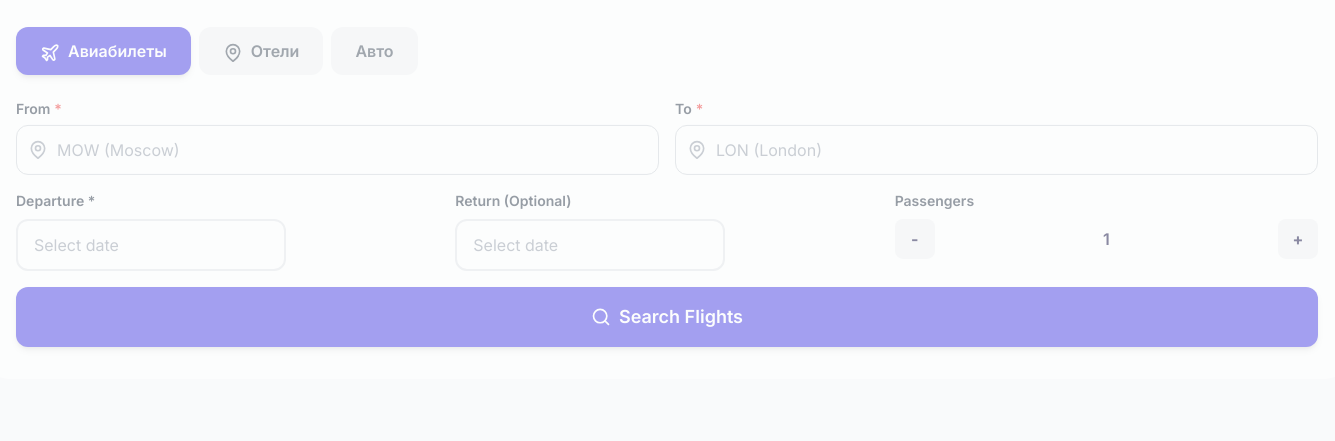
Scenario: SearchWidget Component › Tab Navigation › shows hotel search form when hotels tab selected
Click the tab "Отели" at (261, 51), box [199,27,323,75]
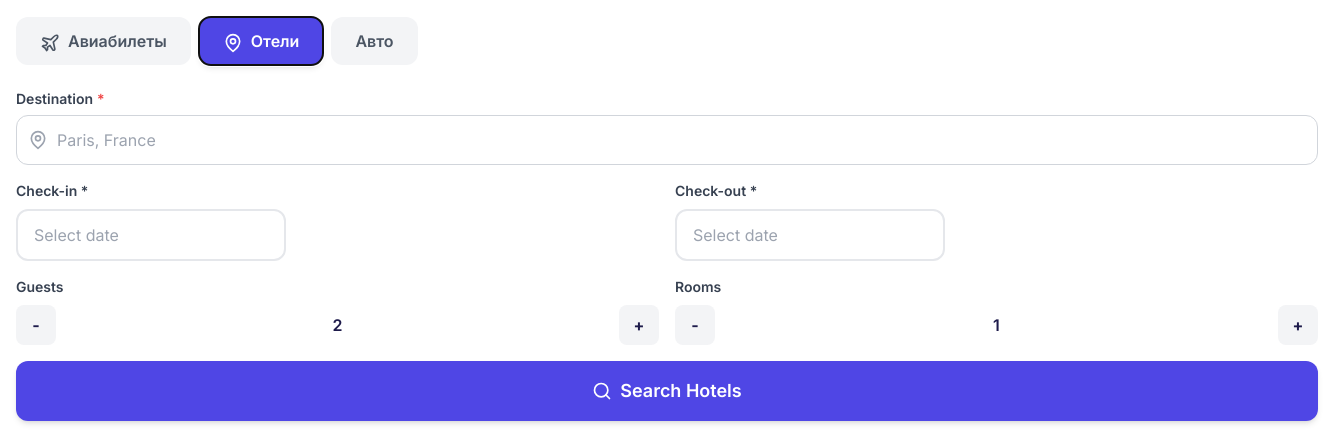
Check: the text "Destination" is shown, box [16,90,93,107]
Check: the text "Guests" is shown, box [16,278,64,295]
Check: the text "Rooms" is shown, box [675,278,721,295]
